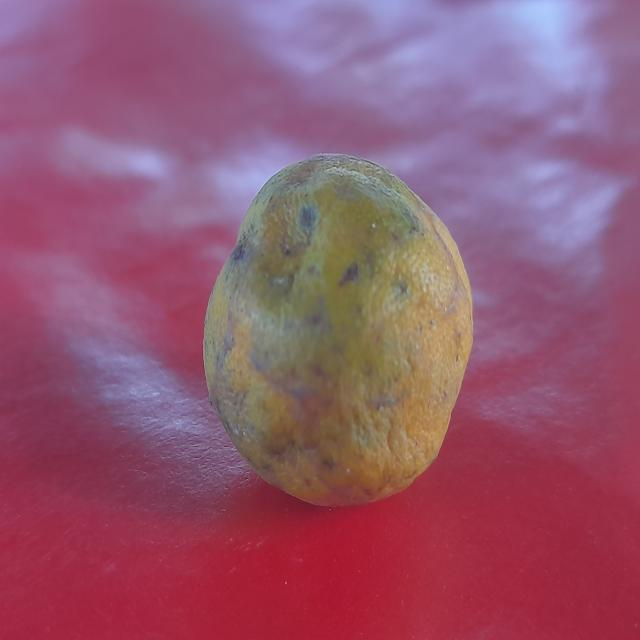black spot: (202, 149, 476, 519)
